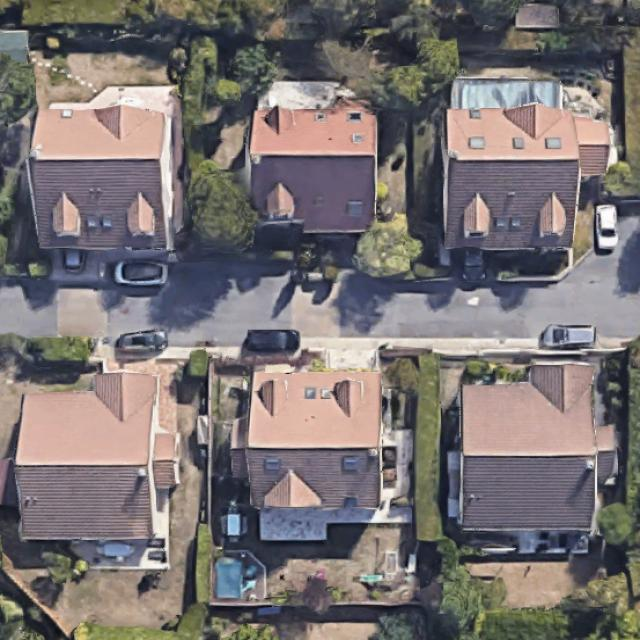maison: (3, 365, 187, 555), (457, 360, 617, 534), (444, 102, 608, 251), (27, 104, 174, 249), (233, 372, 381, 507), (245, 99, 376, 233)
